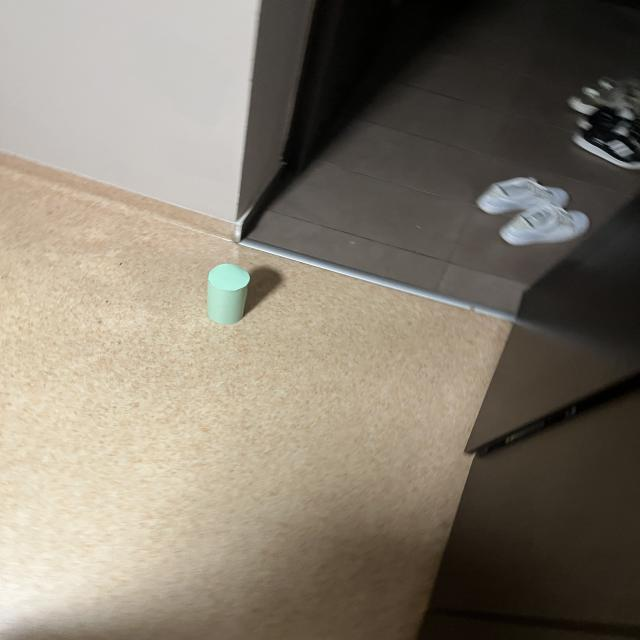meta: (207, 264, 250, 324)
